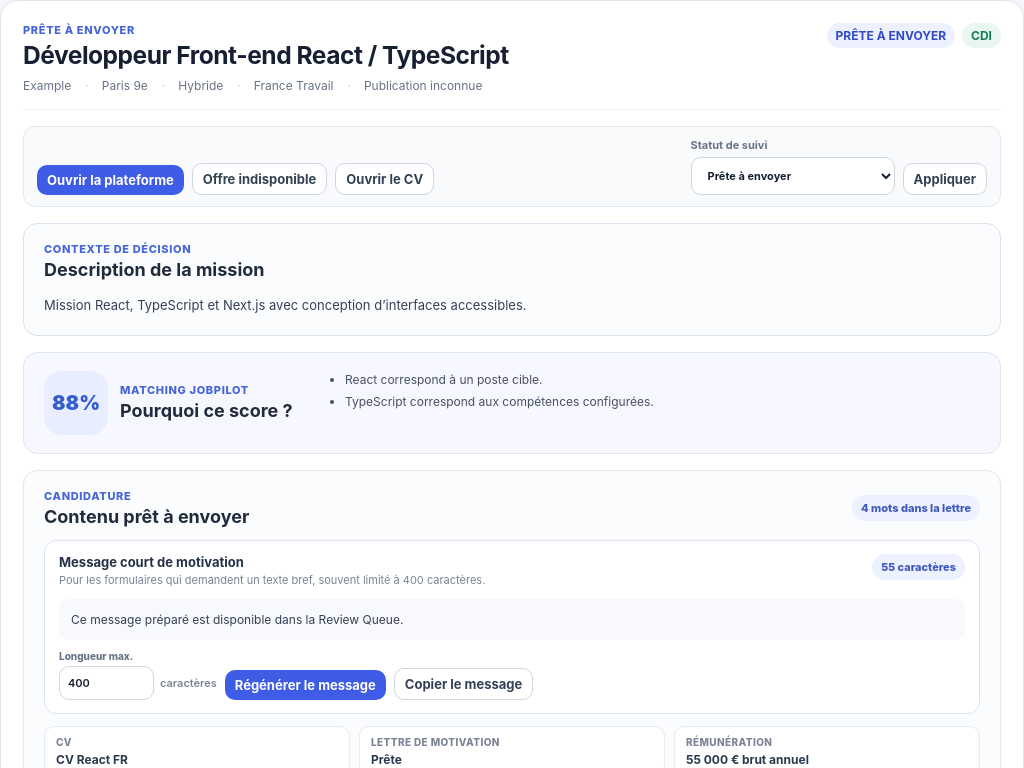
ReviewQueueApplicationCard › keeps a selected status local until Apply is clicked
Expected: the text "PRÊTE À ENVOYER" is shown, [827,23,955,48]
Select "Entretien" in the dropdown named "Statut de suivi dans JobPilot" at (792, 176), box [690,156,894,194]
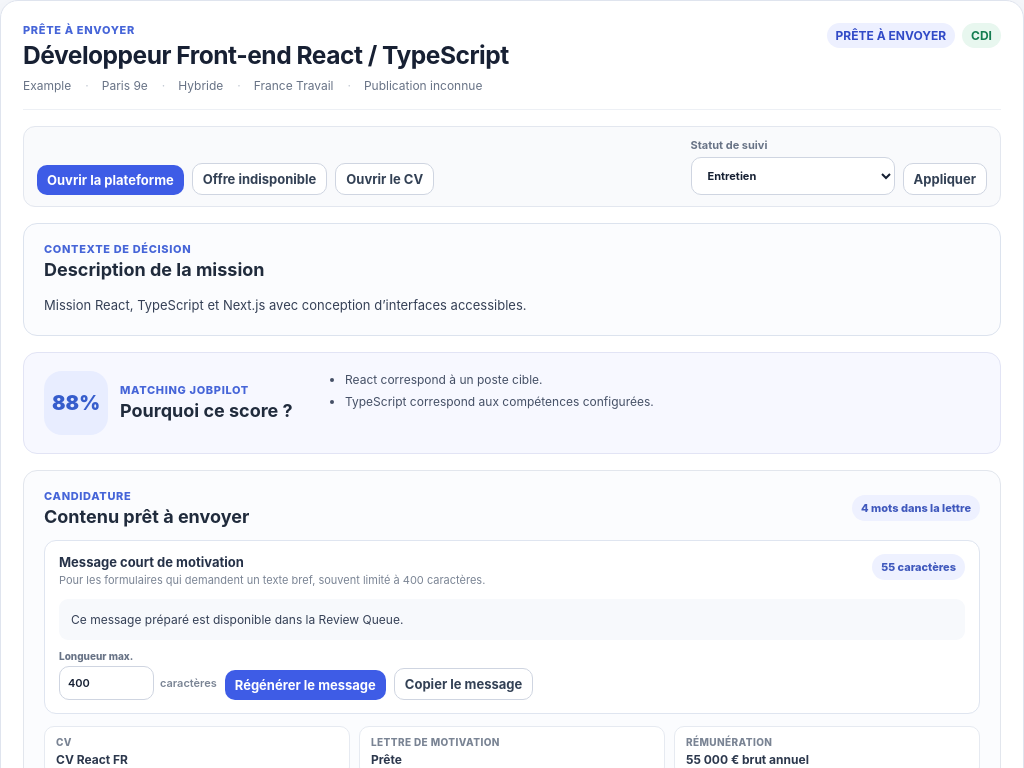
Expected: the text "PRÊTE À ENVOYER" is shown, [827,23,955,48]
Click the button "Appliquer" at (945, 178), box [902,162,987,194]
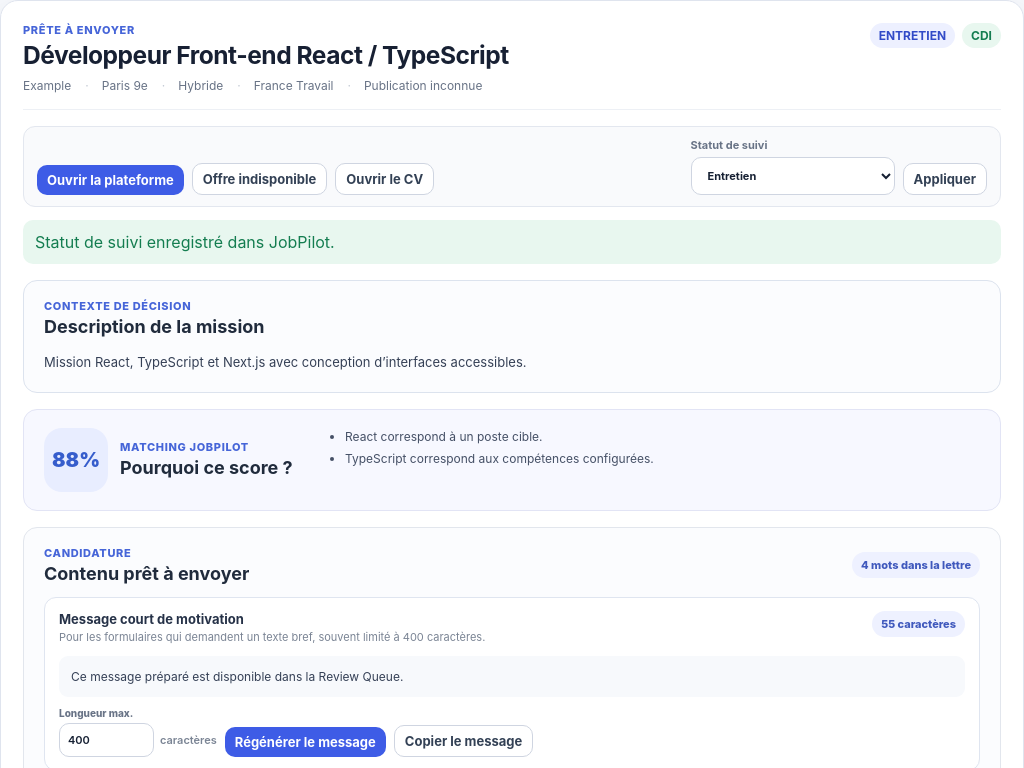
Now the message reads "Statut de suivi enregistré dans JobPilot.", box [35,232,335,252]
